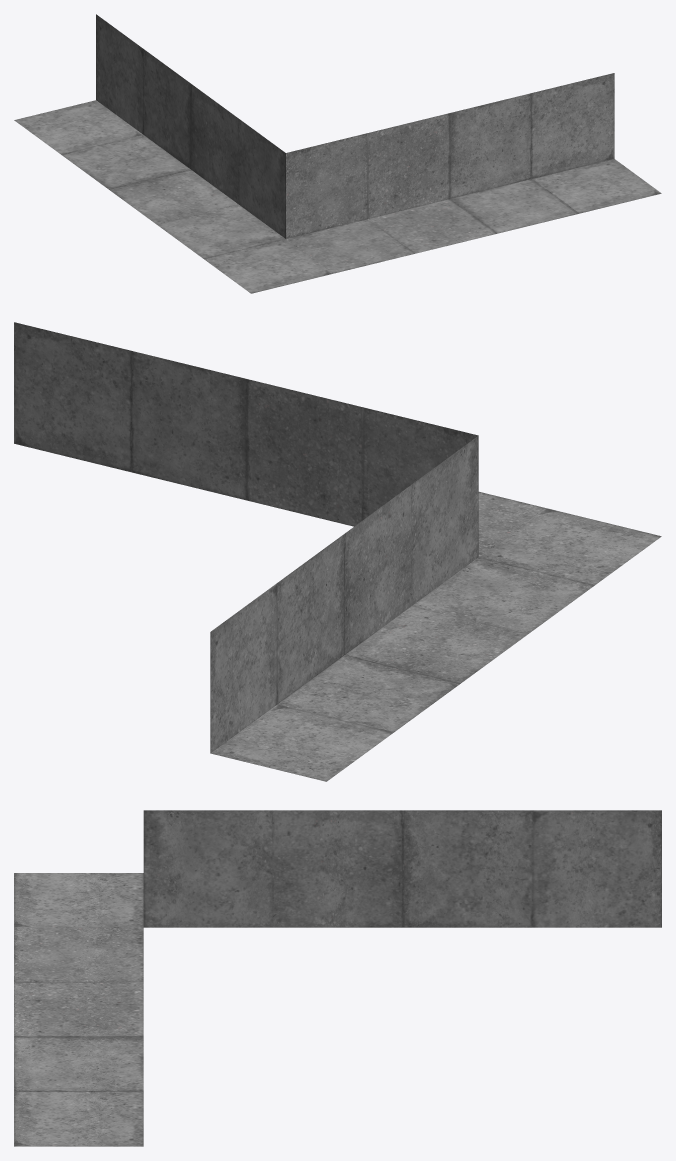
Rendered from SM_Ceiling_21.fbx.
3 renders of one model, top to bottom at view 1: azimuth 30°, elevation 25°; view 2: azimuth 150°, elevation 25°; view 3: azimuth 270°, elevation 25°, orthographic. The views are drawn at different scales.
Visible parts, largest first — view 1: SM_Ceiling_21; view 2: SM_Ceiling_21; view 3: SM_Ceiling_21.
Part boxes in pixels (<box>): SM_Ceiling_21: <box>14,14,661,293</box>; SM_Ceiling_21: <box>14,322,661,781</box>; SM_Ceiling_21: <box>14,810,661,1146</box>.
Size of the model in its own units: 500 by 100 by 500.
